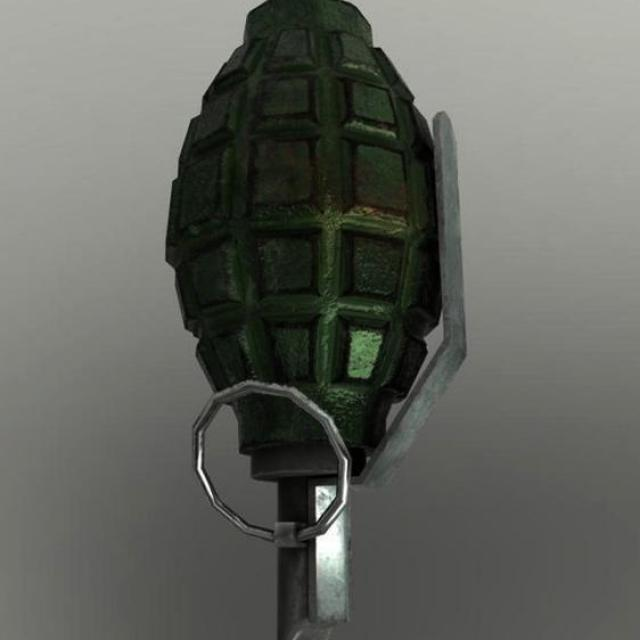grenade: (164, 2, 467, 640)
